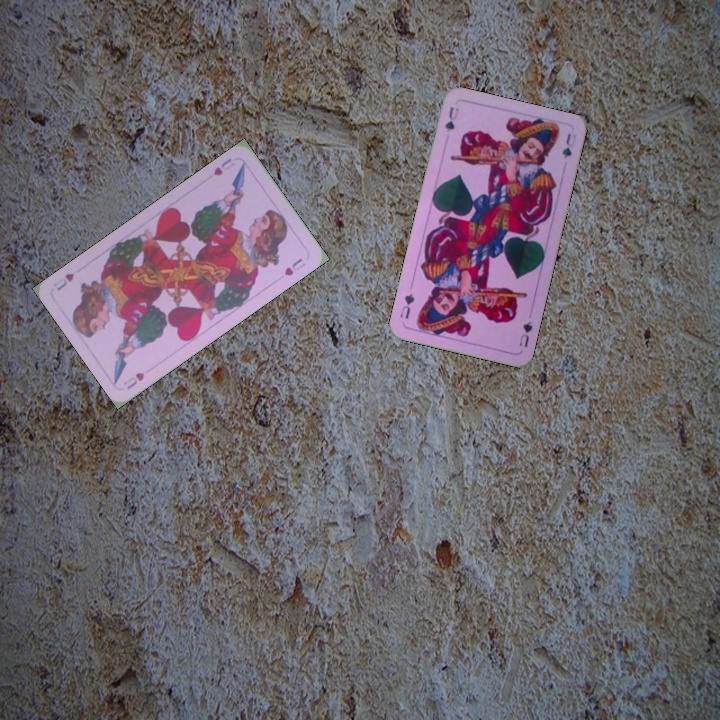GU: (515, 317, 535, 350), (441, 103, 462, 134)
HU: (209, 154, 237, 178), (119, 368, 147, 392)
